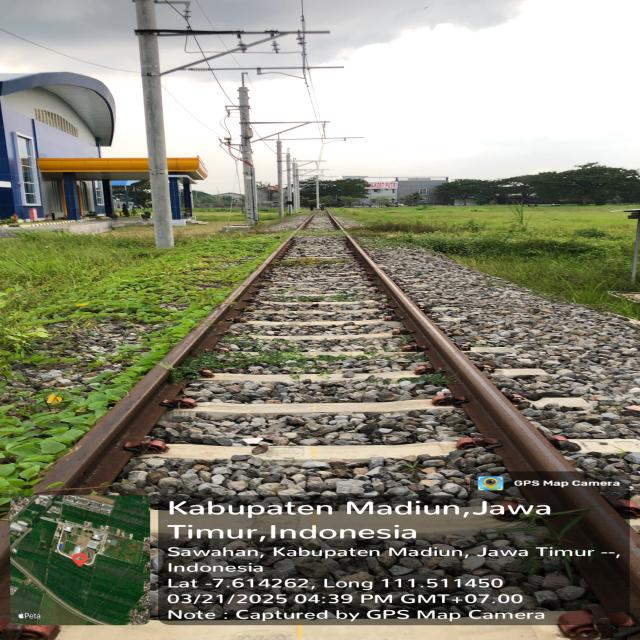rail-detection: (36, 236, 295, 494), (343, 238, 570, 471), (581, 508, 629, 610)
